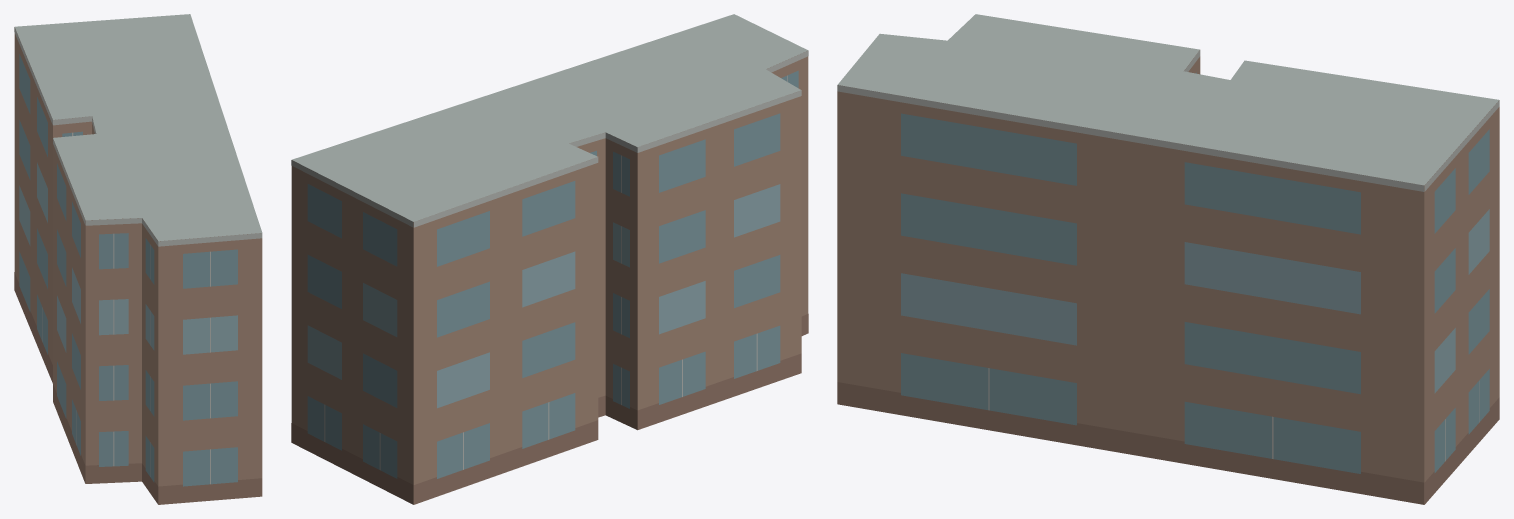
The model's file is survey-upis-32898380.glb.
3 renders of one model, left to right at view 1: azimuth 30°, elevation 25°; view 2: azimuth 150°, elevation 25°; view 3: azimuth 270°, elevation 25°, orthographic. The views are drawn at different scales.
Parts seen in each view (by area): view 1: survey-upis-32898380.tmp; view 2: survey-upis-32898380.tmp; view 3: survey-upis-32898380.tmp.
Boxes of the visible parts, x1,y1,x2,y2 form: survey-upis-32898380.tmp: (14, 14, 262, 504); survey-upis-32898380.tmp: (291, 14, 808, 504); survey-upis-32898380.tmp: (837, 14, 1499, 504).
Bounding box in the file's own units: 13.71 × 11.9 × 22.37.
